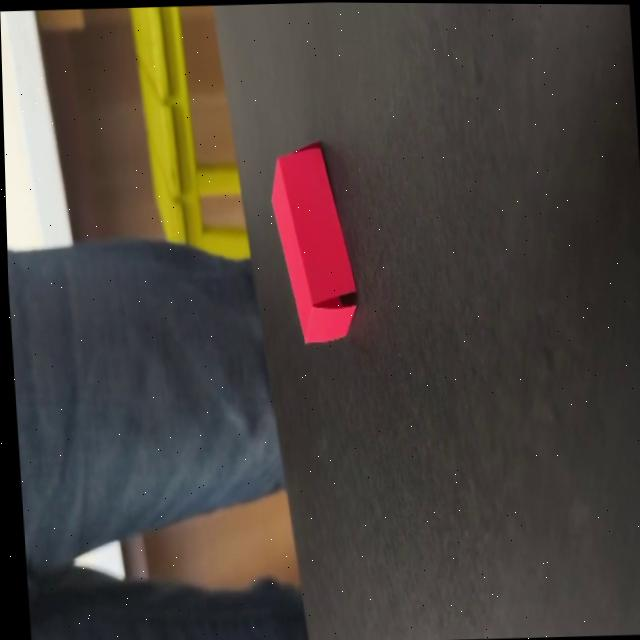red block: (265, 140, 360, 348)
